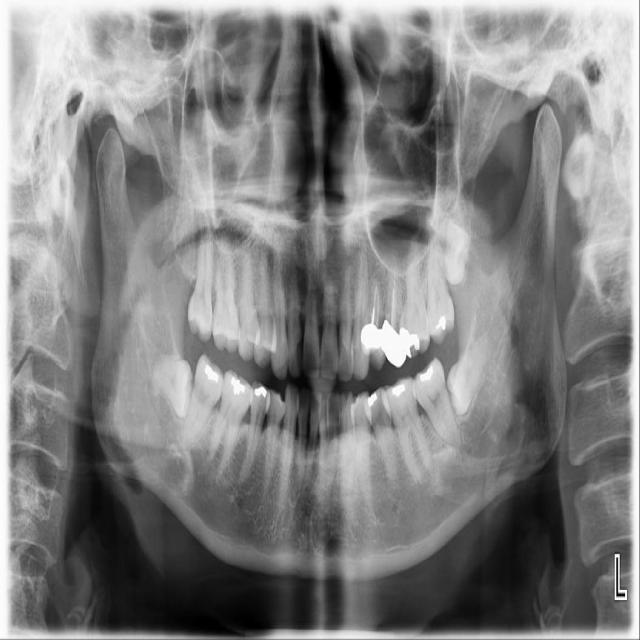52: (210, 366, 264, 420), (401, 353, 454, 408), (185, 350, 237, 406), (374, 371, 427, 422), (422, 293, 460, 347), (396, 309, 434, 360), (357, 385, 398, 431), (378, 316, 409, 370), (358, 321, 389, 373), (246, 380, 273, 419)
73: (378, 250, 405, 333), (363, 274, 391, 331), (589, 576, 597, 592)
BioHorizons Implant: (426, 229, 455, 345)
BioLife Implant: (421, 200, 485, 289)
Biomet 3i Implant: (433, 324, 500, 420)
Blue Sky Bio Implant: (405, 355, 464, 456)
Caries: (187, 211, 214, 344)
Implant: (181, 352, 230, 449)
Keystone Dental Implant: (148, 354, 196, 420)
